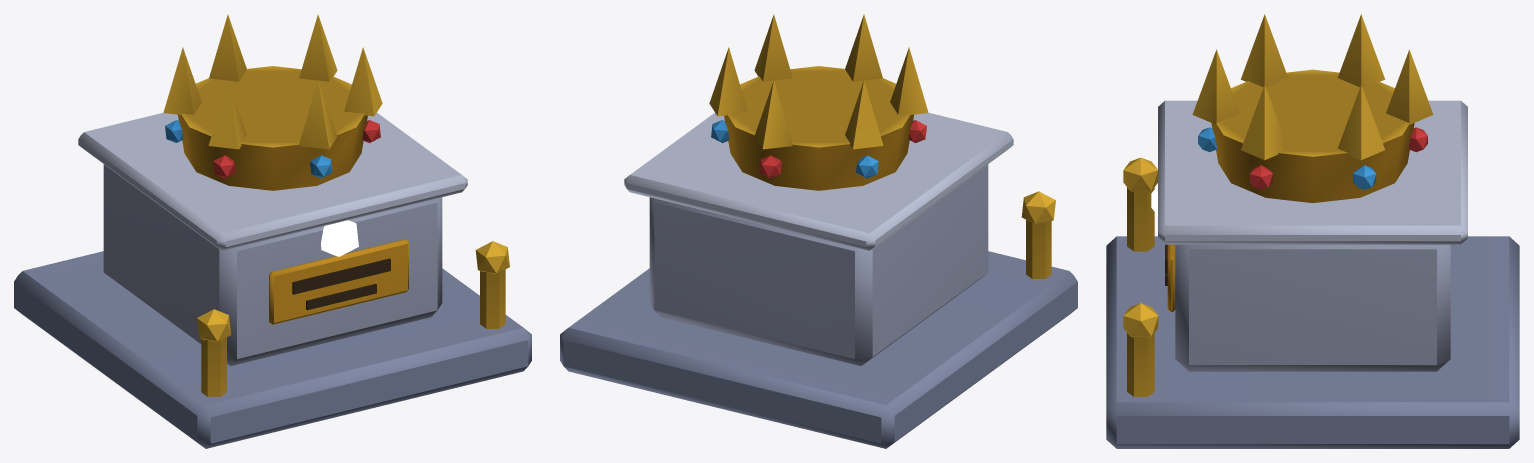
The model's file is b_trophy_bert.glb.
3 views of the same model, side by side, from view 1: azimuth 30°, elevation 25°; view 2: azimuth 150°, elevation 25°; view 3: azimuth 270°, elevation 25° (orthographic). The views are drawn at different scales.
Parts seen in each view (by area): view 1: body, pulse_gem_glow; view 2: body; view 3: body.
Boxes of the visible parts, bbox=[...] form: body: bbox=[14, 14, 531, 448]; pulse_gem_glow: bbox=[321, 220, 358, 256]; body: bbox=[560, 14, 1077, 448]; body: bbox=[1106, 14, 1519, 448].
Bounding box in the file's own units: 2.4 × 2.03 × 2.4.
